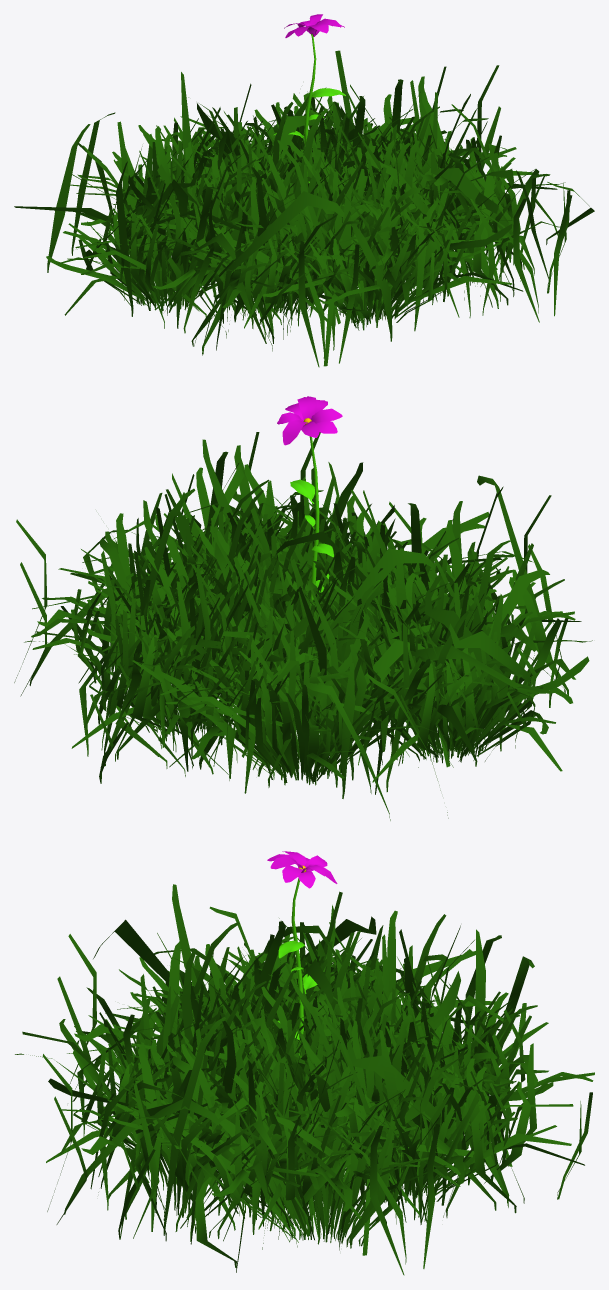
Rendered from Player_Idle3.fbx.
3 views of the same model, one above another, from view 1: azimuth 30°, elevation 25°; view 2: azimuth 150°, elevation 25°; view 3: azimuth 270°, elevation 25° (orthographic). The views are drawn at different scales.
Parts seen in each view (by area): view 1: Player; view 2: Player; view 3: Player.
Boxes of the visible parts, box(x1,y1,x2,y2) form: Player: box(14, 14, 594, 367); Player: box(14, 396, 592, 820); Player: box(15, 851, 594, 1275).
Size of the model in its own units: 162 by 86.36 by 149.
